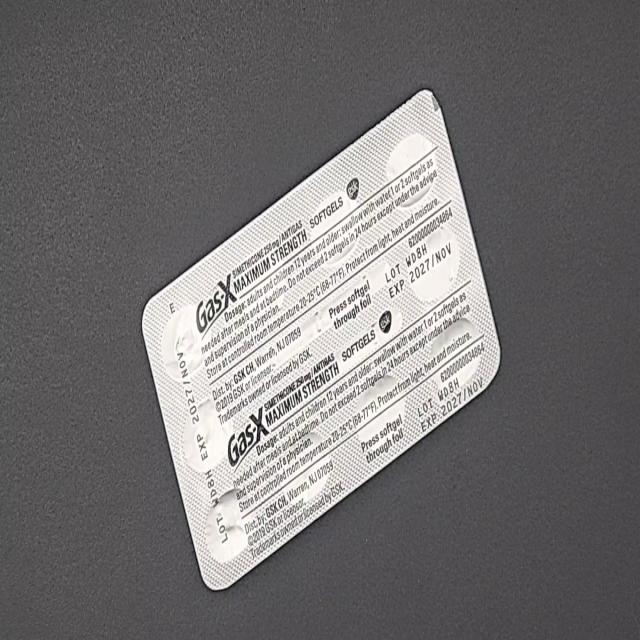no defect: (10, 24, 28, 68)
